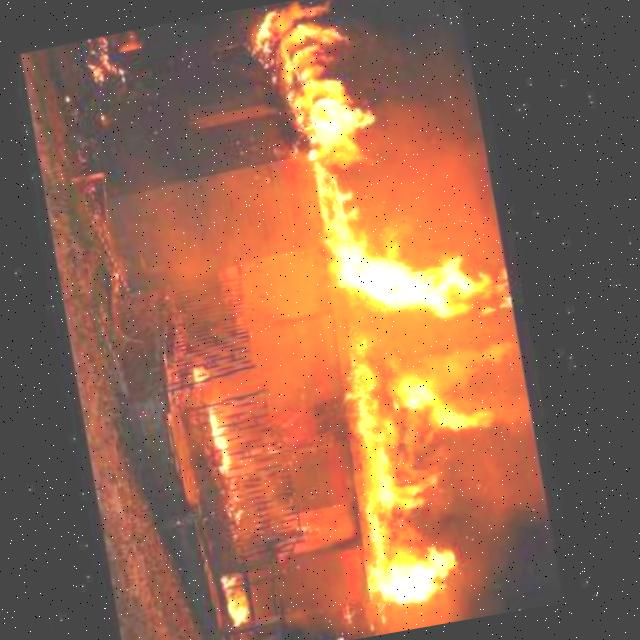fire: (262, 0, 607, 631), (199, 382, 275, 523), (215, 545, 272, 631), (185, 334, 226, 383)
